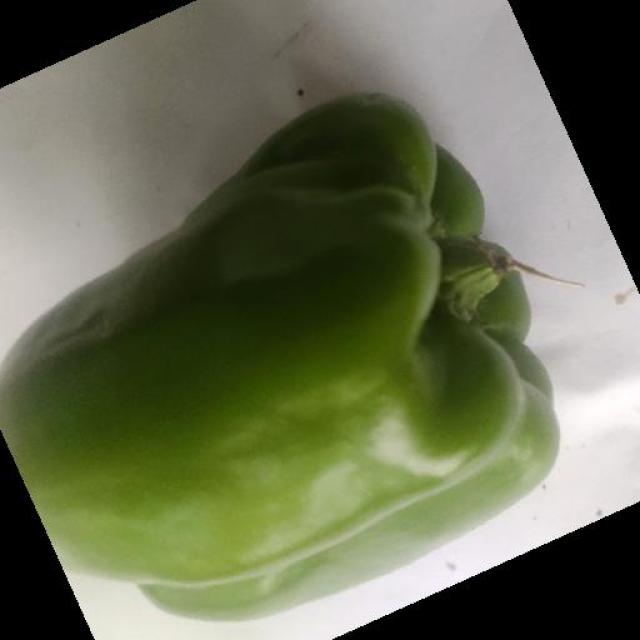Fresh_Capsicum: (27, 116, 577, 564)
